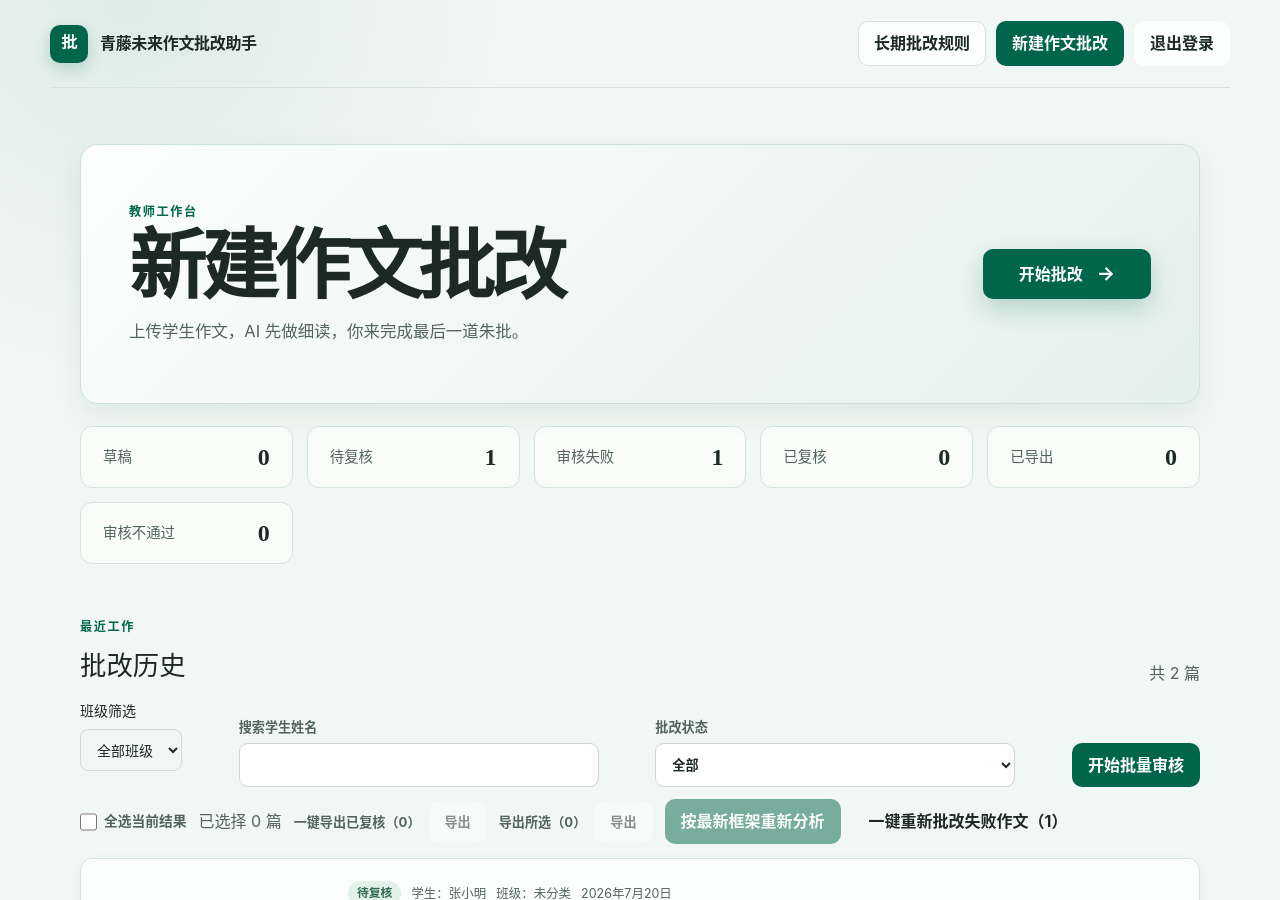
历史首页 › 分析失败的作文归入「审核失败」，不算待复核
This screenshot has width=1280, height=900.
Select "审核失败" in the dropdown named "筛选批改状态": (835, 765) [655,743,1015,787]
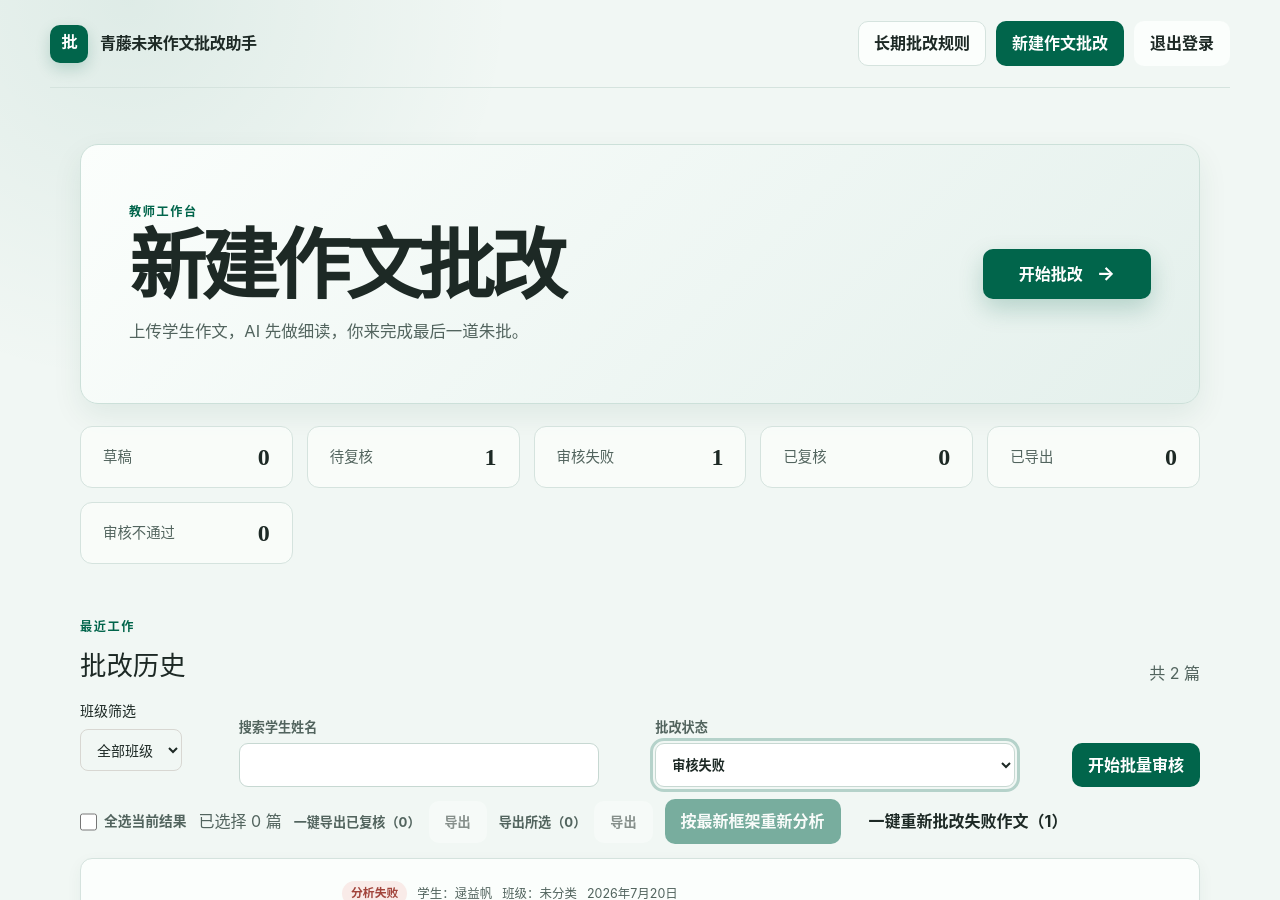
Select "待复核" in the dropdown named "筛选批改状态": (835, 765) [655,743,1015,787]
(page scrolled)
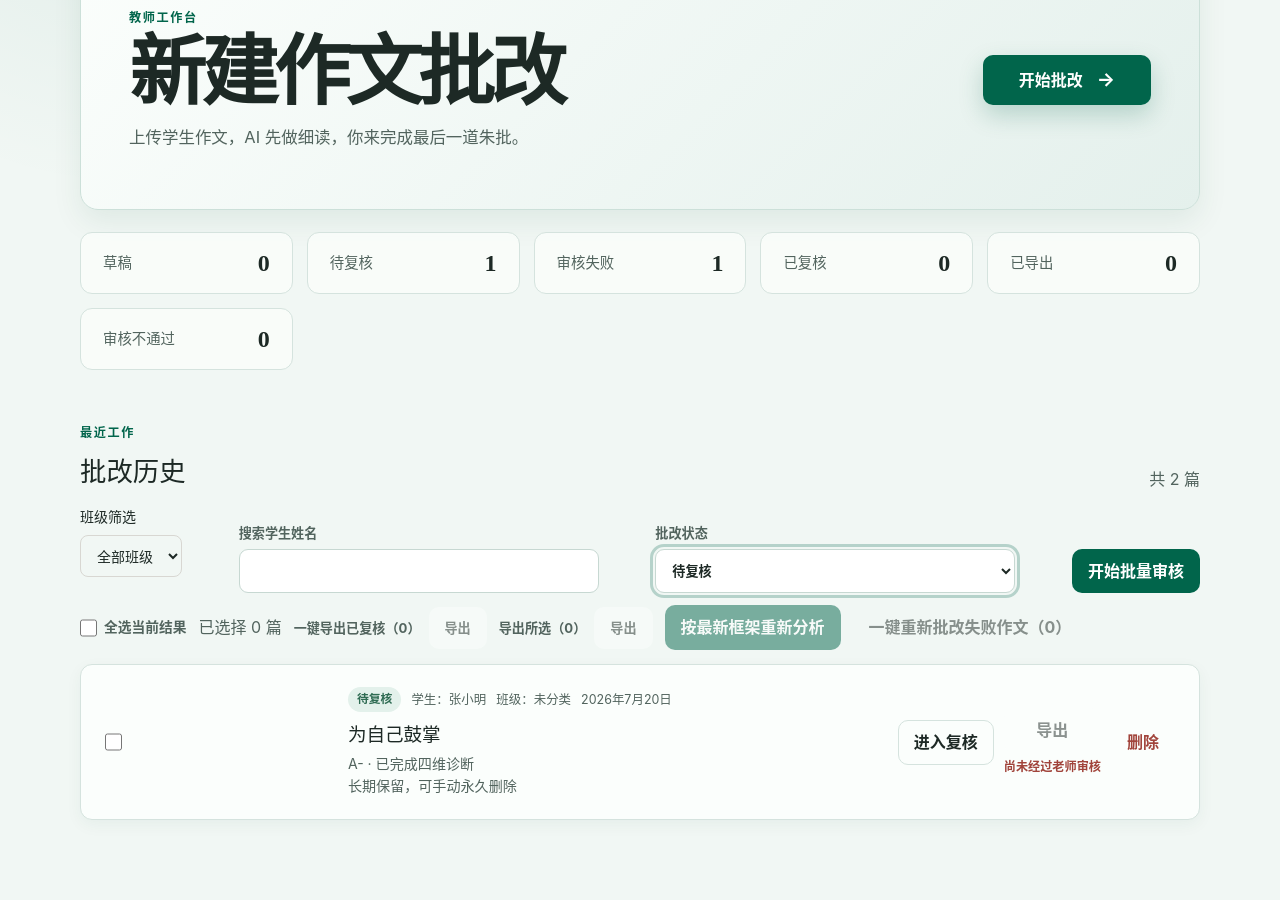
Now the text "学生：张小明" is shown, box [411,690,486,709]
